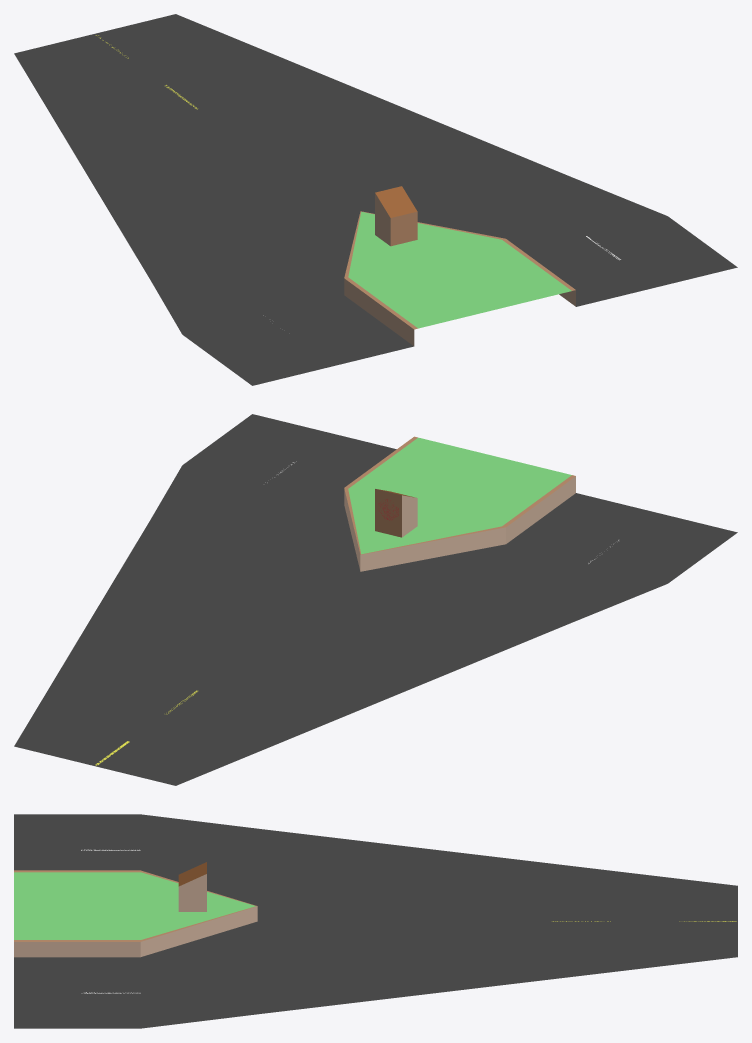
File: gwro.obj
The picture shows the model from 3 angles, top to bottom: view 1: azimuth 30°, elevation 25°; view 2: azimuth 150°, elevation 25°; view 3: azimuth 270°, elevation 25°; orthographic projection. The views are drawn at different scales.
Size of the model in its own units: 720 by 84 by 1028.
